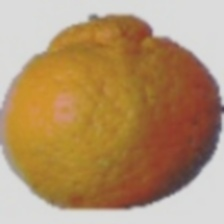tangerine: (15, 39, 178, 183)
